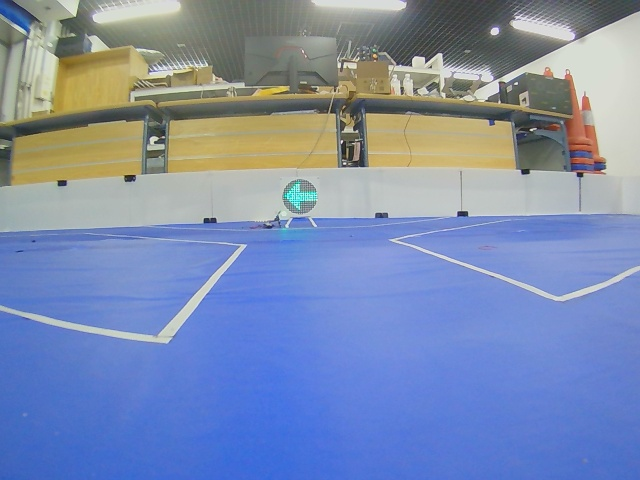left_green: (282, 179, 318, 214)
